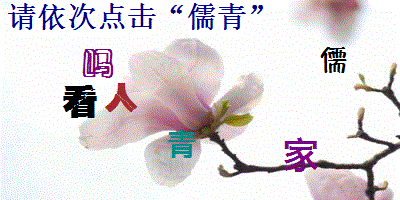text: (282, 137, 319, 174), (63, 84, 98, 120), (81, 47, 114, 80), (104, 82, 139, 113), (167, 129, 197, 159), (319, 45, 348, 76)
